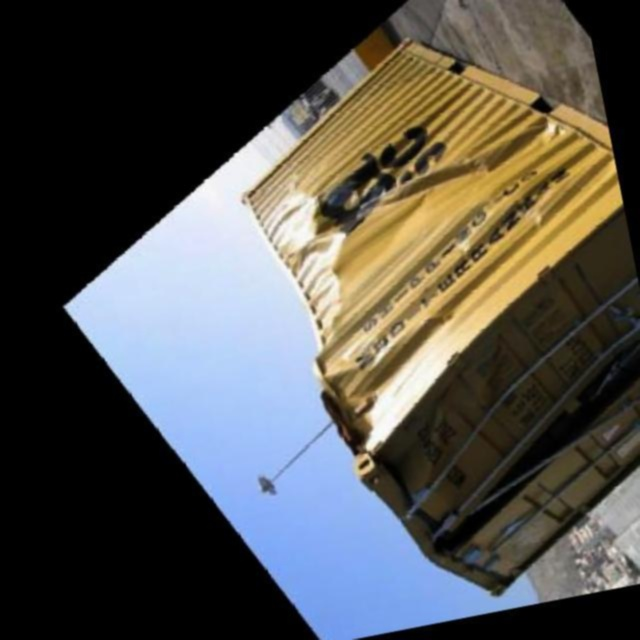Dent: (344, 125, 525, 221)
Hole: (318, 260, 640, 611), (246, 174, 385, 398)
